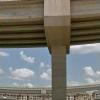Bridge: (3, 2, 96, 69)
